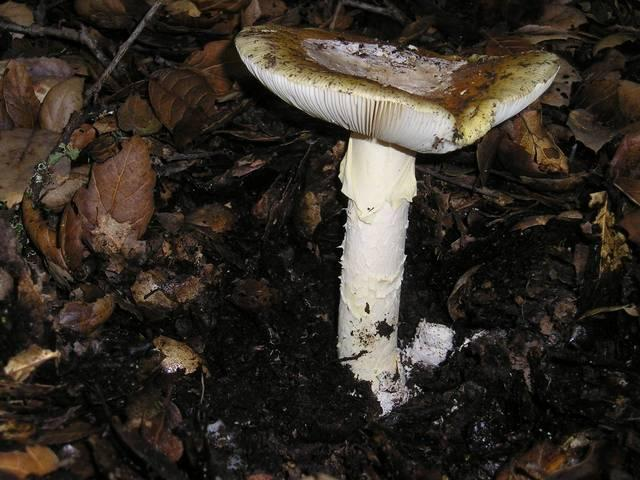Edible Mushroom: (232, 22, 561, 417)
